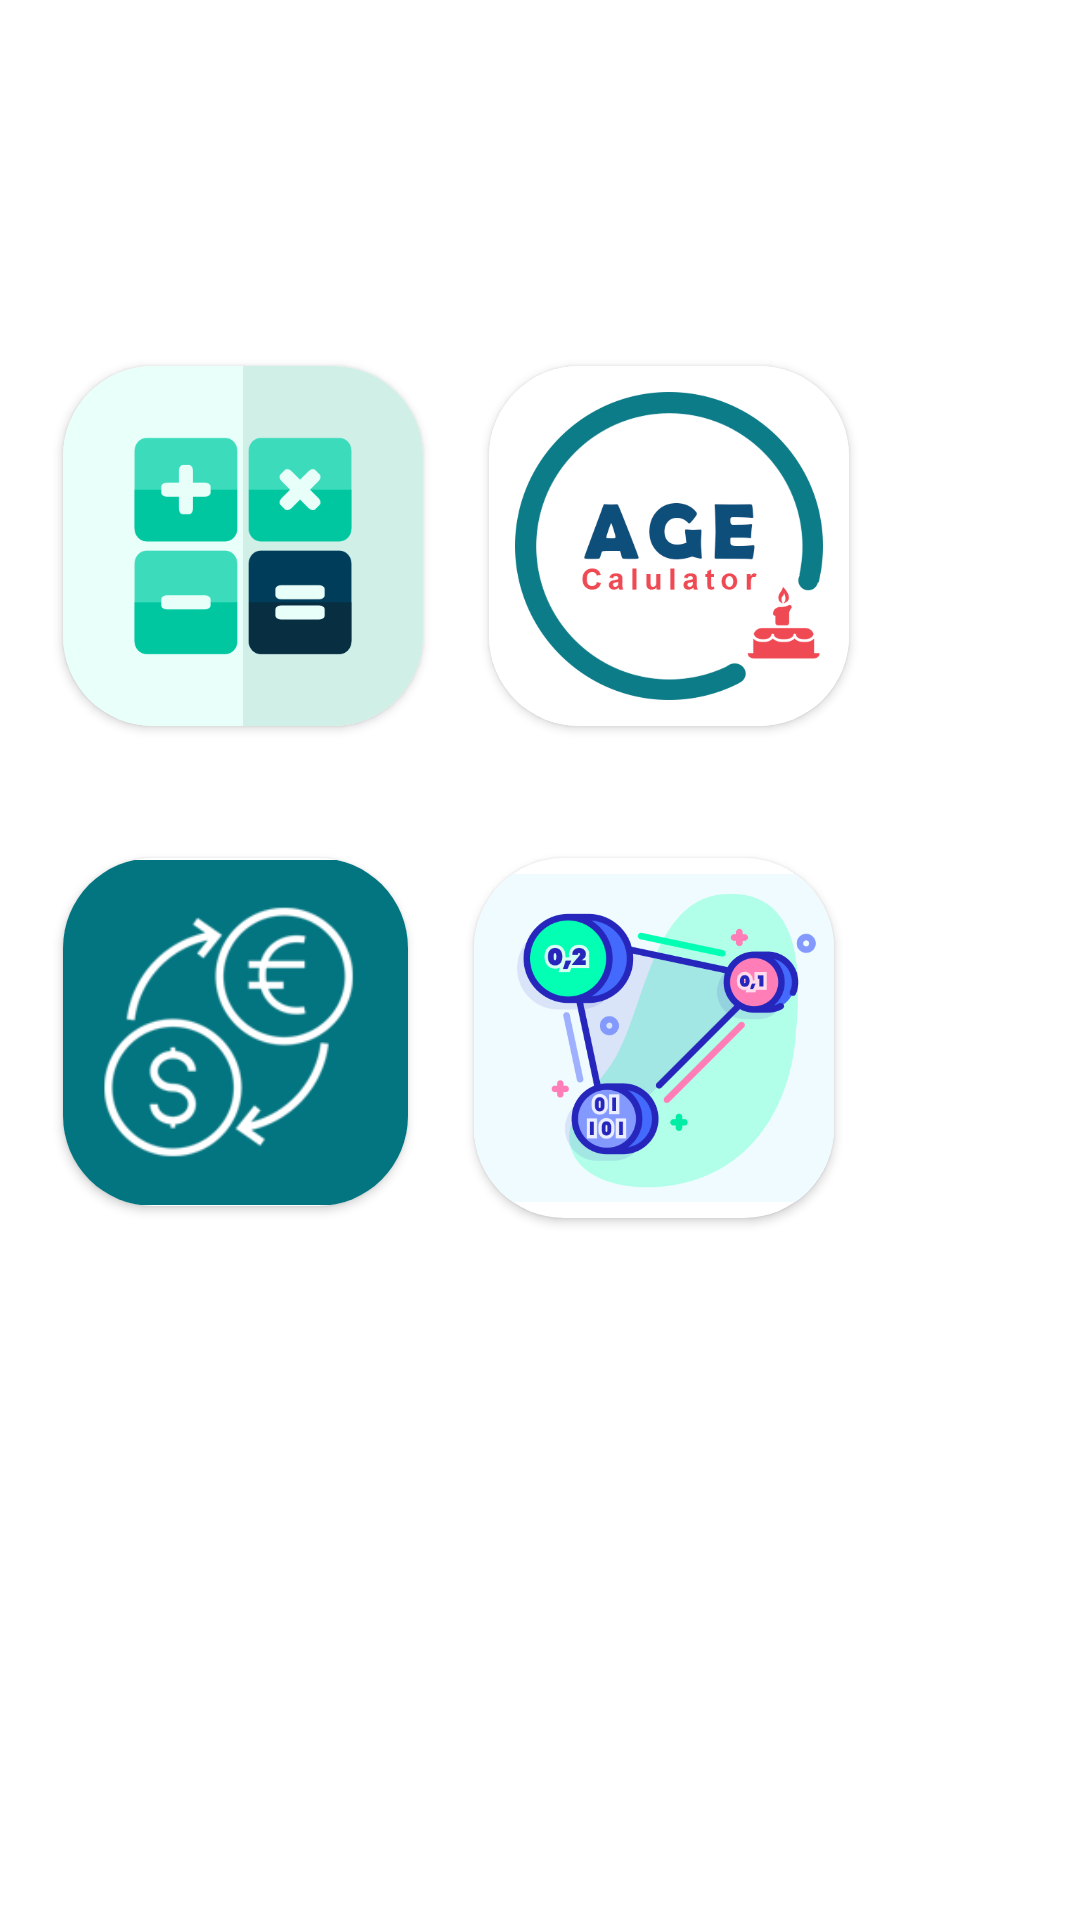

Icons on this 1080w x 1920h Android screen, each with the point to tap as point (x, y):
calculator: point (243, 546)
currencyconvertor: point (235, 1033)
